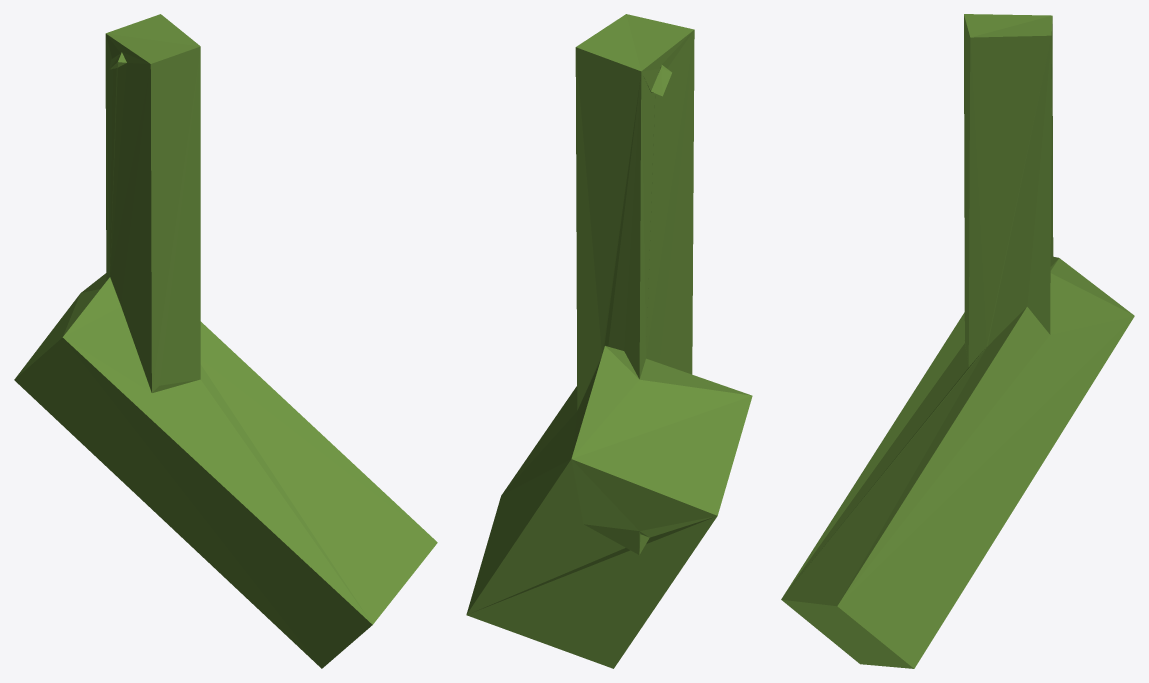
The picture shows the model from 3 angles, left to right: view 1: azimuth 30°, elevation 25°; view 2: azimuth 150°, elevation 25°; view 3: azimuth 270°, elevation 25°; orthographic projection. The views are drawn at different scales.
Parts seen in each view (by area): view 1: 683_Cube.2743; view 2: 683_Cube.2743; view 3: 683_Cube.2743.
Boxes of the visible parts, box(x1,y1,x2,y2) form: 683_Cube.2743: box(14, 14, 437, 668); 683_Cube.2743: box(466, 14, 752, 668); 683_Cube.2743: box(781, 14, 1134, 668).
Bounding box in the file's own units: 9.86 × 18.77 × 10.08.
